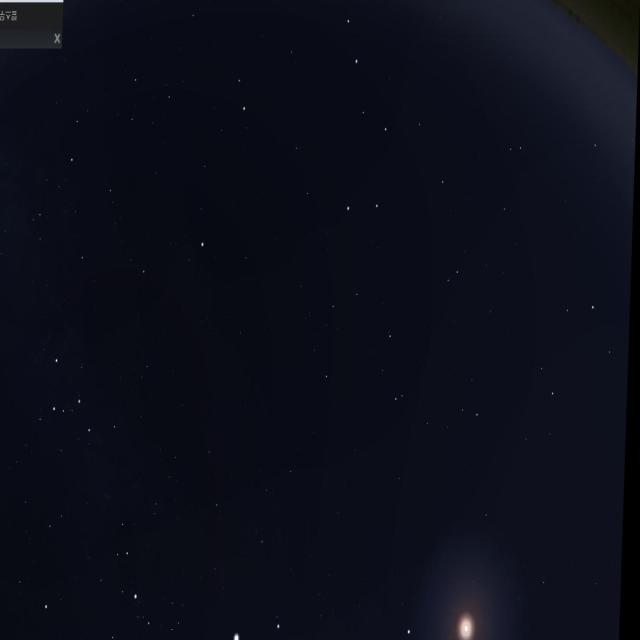moon: (440, 577, 502, 640)
ursa_major: (328, 0, 432, 249)
